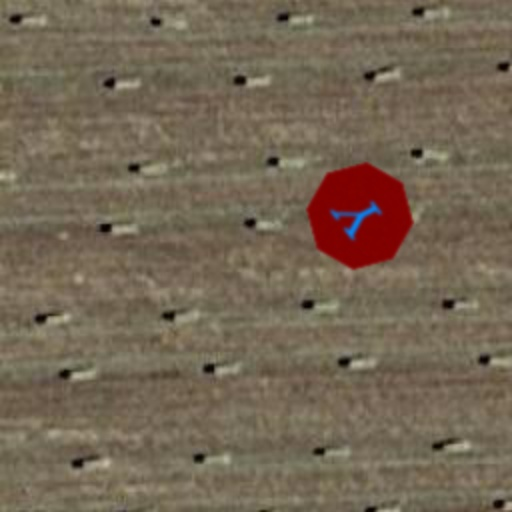octagon: (282, 138, 438, 294)
